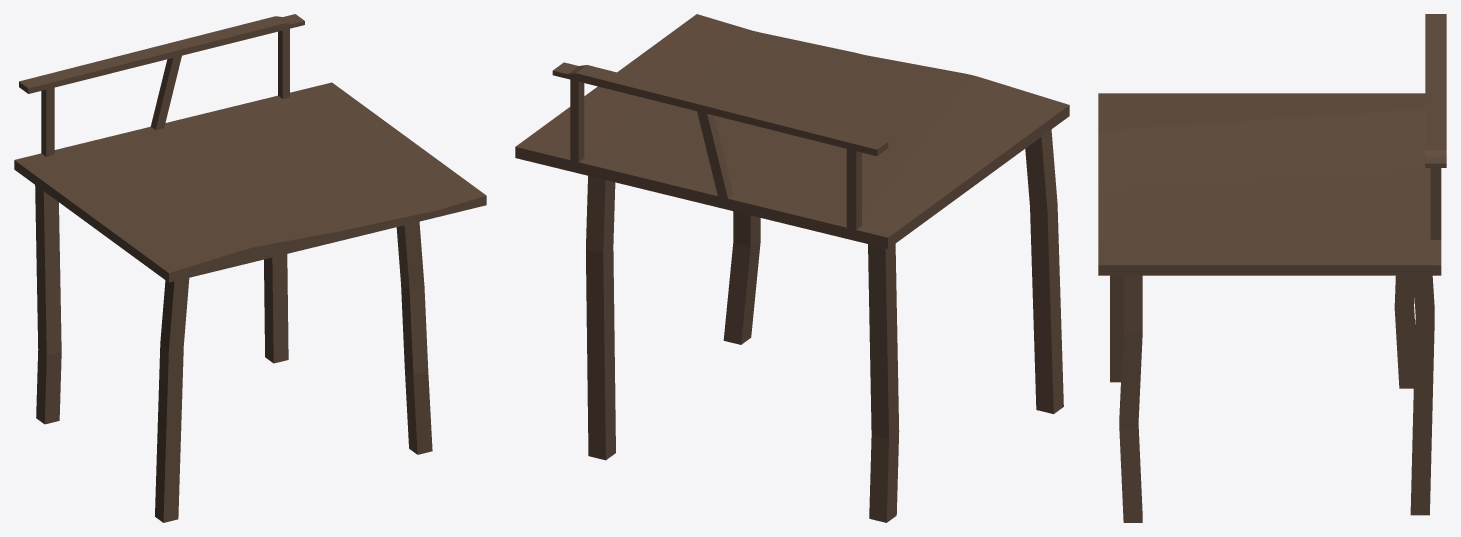
File: platform1.fbx
3 views of the same model, side by side, from view 1: azimuth 30°, elevation 25°; view 2: azimuth 150°, elevation 25°; view 3: azimuth 270°, elevation 25° (orthographic). The views are drawn at different scales.
Parts seen in each view (by area): view 1: Platform1; view 2: Platform1; view 3: Platform1.
Boxes of the visible parts, <box> form: Platform1: <box>14,14,486,522</box>; Platform1: <box>515,14,1069,522</box>; Platform1: <box>1098,14,1446,522</box>.
Bounding box in the file's own units: 282 × 281 × 241.
